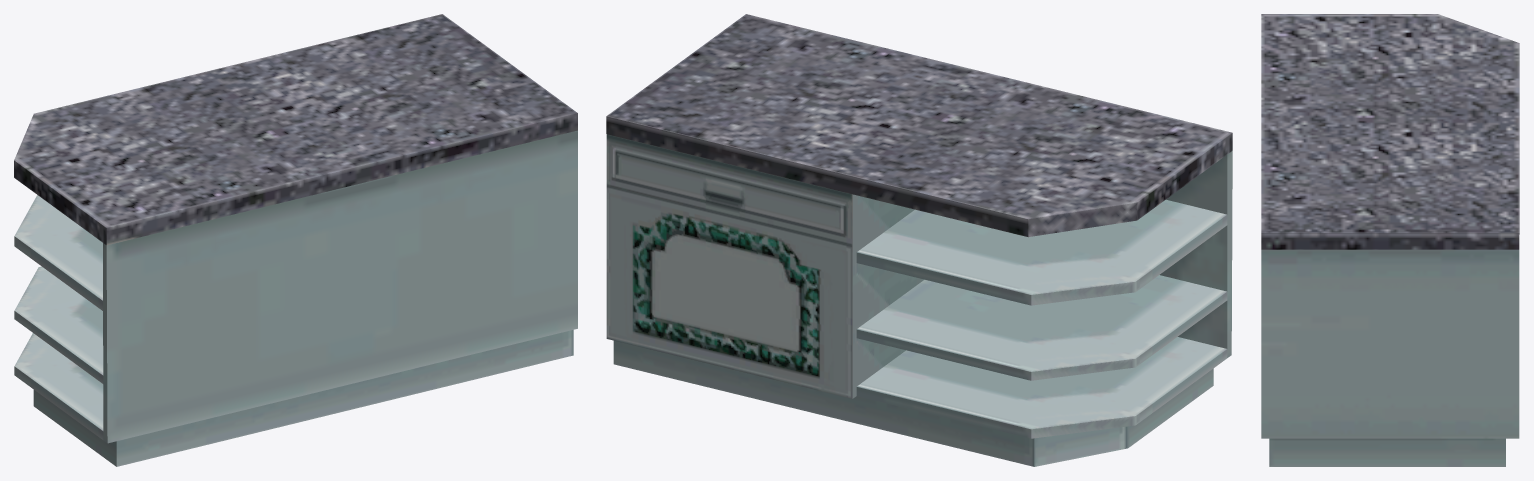
Rendered from furni_0200090_03.FBX.
3 renders of one model, left to right at view 1: azimuth 30°, elevation 25°; view 2: azimuth 150°, elevation 25°; view 3: azimuth 270°, elevation 25°, orthographic. The views are drawn at different scales.
Visible parts, largest first — view 1: furni_0200090_03; view 2: furni_0200090_03; view 3: furni_0200090_03.
Boxes of the visible parts, bbox=[...] form: furni_0200090_03: bbox=[14, 14, 577, 466]; furni_0200090_03: bbox=[606, 14, 1232, 466]; furni_0200090_03: bbox=[1261, 14, 1519, 466].
Size of the model in its own units: 161 by 80 by 80.
